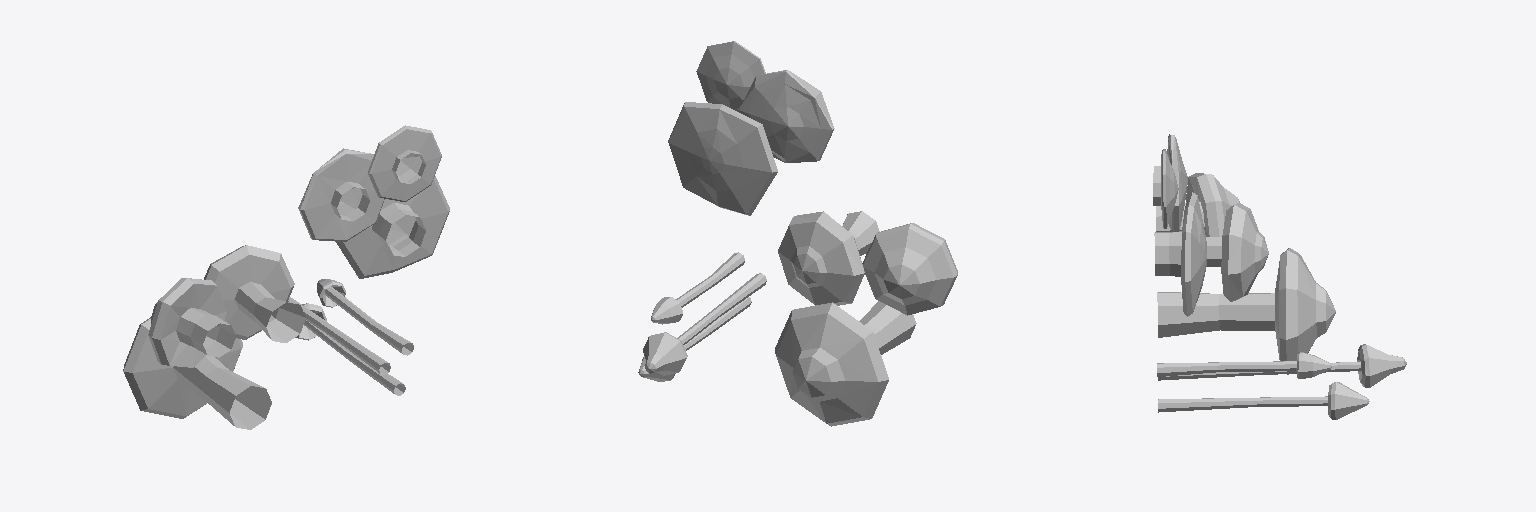
Rendered from shrooms.obj.
The picture shows the model from 3 angles: view 1: azimuth 30°, elevation 25°; view 2: azimuth 150°, elevation 25°; view 3: azimuth 270°, elevation 25°; orthographic projection.
Visible parts, largest first — view 1: Shroom2_Cylinder.002, Shroom3_Cylinder.003, Shroom8_Cylinder.008, Shroom1_Cylinder, Shroom7_Cylinder.007, Shroom9_Cylinder.009, Shroom5_Cylinder.006, Shroom4_Cylinder.005, Shroom6_Cylinder.004; view 2: Shroom2_Cylinder.002, Shroom8_Cylinder.008, Shroom3_Cylinder.003, Shroom1_Cylinder, Shroom7_Cylinder.007, Shroom9_Cylinder.009, Shroom6_Cylinder.004, Shroom5_Cylinder.006, Shroom4_Cylinder.005; view 3: Shroom2_Cylinder.002, Shroom3_Cylinder.003, Shroom8_Cylinder.008, Shroom4_Cylinder.005, Shroom5_Cylinder.006, Shroom6_Cylinder.004, Shroom1_Cylinder, Shroom9_Cylinder.009, Shroom7_Cylinder.007.
Part boxes in pixels (left/top/right/bottom): Shroom2_Cylinder.002: left=123, top=317, right=271, bottom=429; Shroom3_Cylinder.003: left=204, top=245, right=305, bottom=342; Shroom8_Cylinder.008: left=335, top=176, right=449, bottom=278; Shroom1_Cylinder: left=148, top=278, right=235, bottom=367; Shroom7_Cylinder.007: left=298, top=148, right=384, bottom=241; Shroom9_Cylinder.009: left=368, top=125, right=441, bottom=201; Shroom5_Cylinder.006: left=317, top=279, right=413, bottom=355; Shroom4_Cylinder.005: left=295, top=303, right=405, bottom=395; Shroom6_Cylinder.004: left=288, top=297, right=390, bottom=374; Shroom2_Cylinder.002: left=775, top=301, right=916, bottom=426; Shroom8_Cylinder.008: left=668, top=102, right=777, bottom=215; Shroom3_Cylinder.003: left=778, top=211, right=879, bottom=305; Shroom1_Cylinder: left=862, top=223, right=957, bottom=315; Shroom7_Cylinder.007: left=738, top=70, right=834, bottom=162; Shroom9_Cylinder.009: left=696, top=41, right=765, bottom=111; Shroom6_Cylinder.004: left=643, top=273, right=766, bottom=375; Shroom5_Cylinder.006: left=651, top=252, right=744, bottom=324; Shroom4_Cylinder.005: left=638, top=297, right=751, bottom=381; Shroom2_Cylinder.002: left=1157, top=248, right=1335, bottom=374; Shroom3_Cylinder.003: left=1206, top=203, right=1268, bottom=301; Shroom8_Cylinder.008: left=1154, top=192, right=1206, bottom=316; Shroom4_Cylinder.005: left=1158, top=382, right=1369, bottom=419; Shroom5_Cylinder.006: left=1157, top=352, right=1331, bottom=378; Shroom6_Cylinder.004: left=1158, top=344, right=1406, bottom=387; Shroom1_Cylinder: left=1156, top=173, right=1239, bottom=236; Shroom9_Cylinder.009: left=1153, top=149, right=1178, bottom=228; Shroom7_Cylinder.007: left=1154, top=134, right=1187, bottom=231.
Bounding box in the file's own units: 0.8845 × 0.8635 × 0.662.